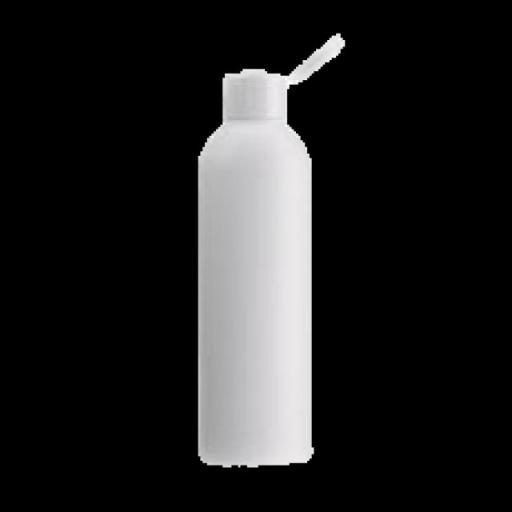plastic: (198, 34, 342, 468)
